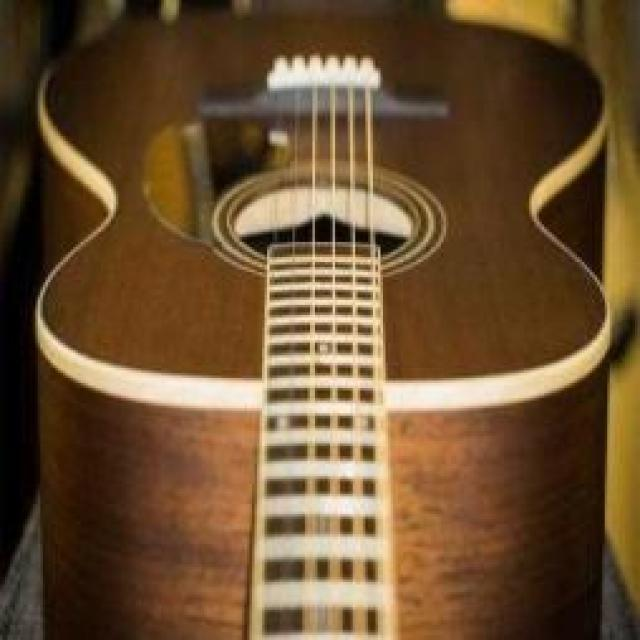acousticguitar: (35, 10, 610, 637)
